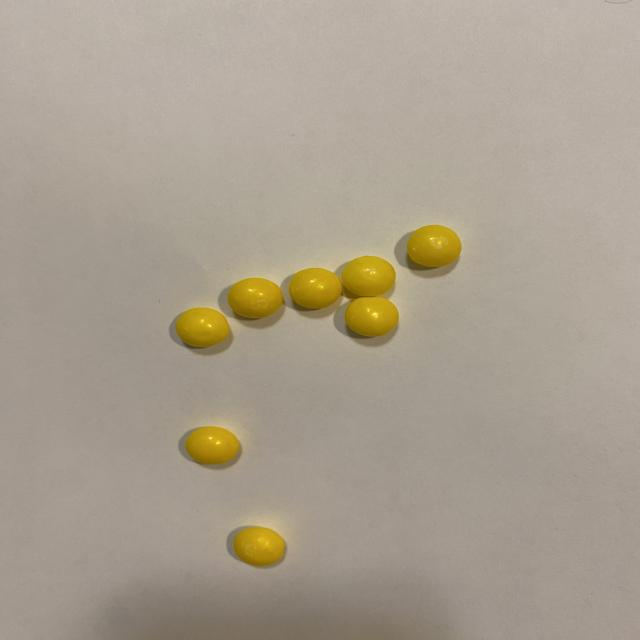smartie: (407, 225, 462, 267), (342, 256, 396, 297), (174, 308, 229, 348), (227, 278, 282, 318), (289, 268, 342, 309), (345, 297, 399, 337), (184, 427, 239, 465), (232, 528, 284, 567)
